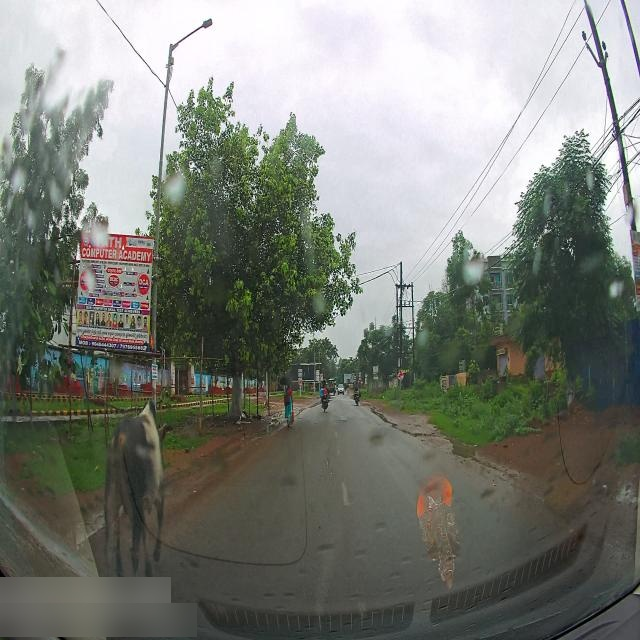pothole: (370, 398, 430, 453), (432, 428, 482, 468)
